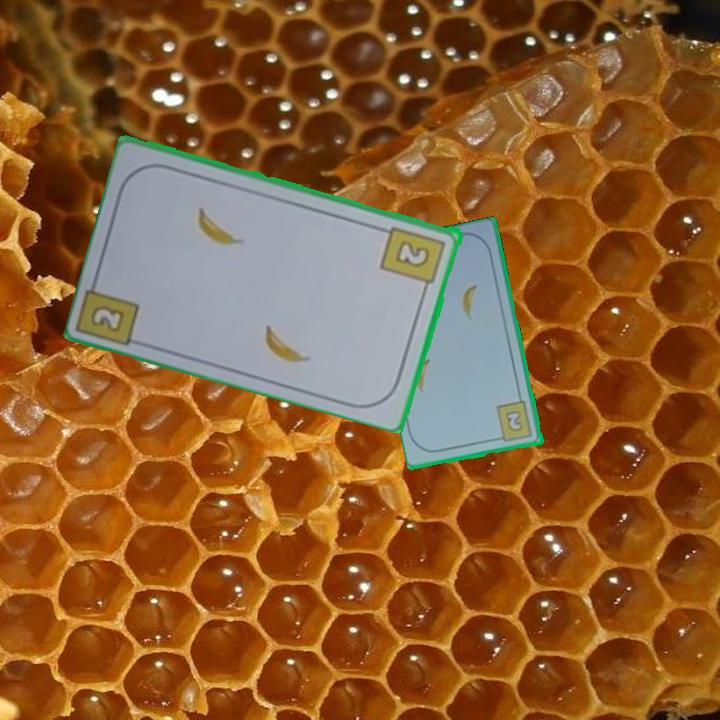2b: (378, 222, 449, 295), (493, 398, 535, 445), (87, 301, 128, 335)
